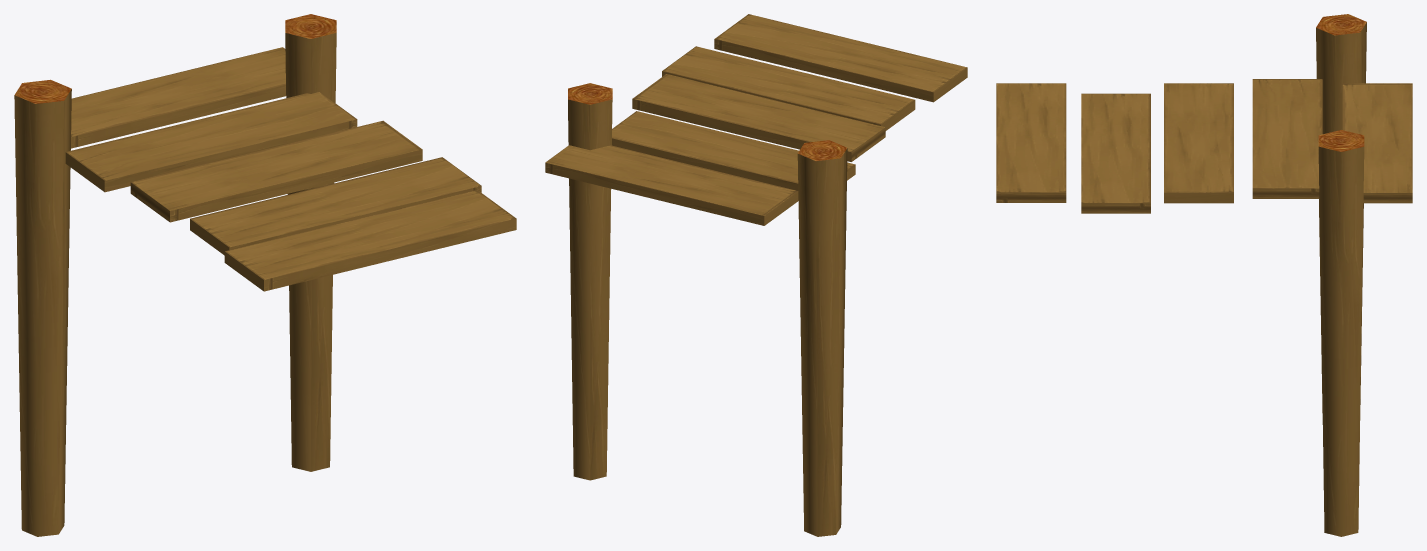
The model's file is bridge.FBX.
3 views of the same model, side by side, from view 1: azimuth 30°, elevation 25°; view 2: azimuth 150°, elevation 25°; view 3: azimuth 270°, elevation 25° (orthographic). The views are drawn at different scales.
Parts seen in each view (by area): view 1: Box001; view 2: Box001; view 3: Box001.
Part boxes in pixels (left/top/right/bottom): Box001: left=14, top=14, right=516, bottom=536; Box001: left=545, top=14, right=967, bottom=536; Box001: left=996, top=14, right=1412, bottom=536.
Bounding box in the file's own units: 71.37 × 93.4 × 90.87.
2 materials, 2 textured.
